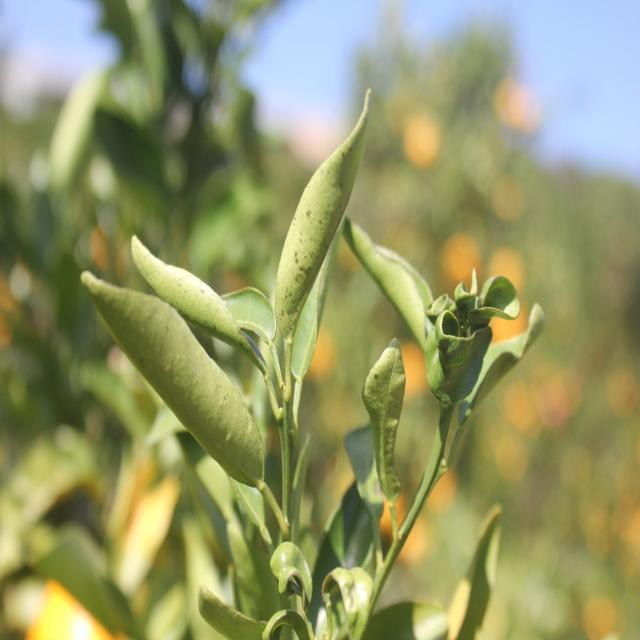melanose: (259, 111, 367, 327)
